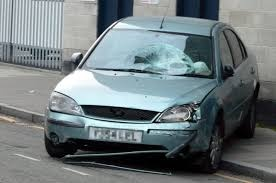Broken-glass: (123, 44, 199, 76), (153, 98, 198, 127)
Dent: (196, 97, 223, 150)
